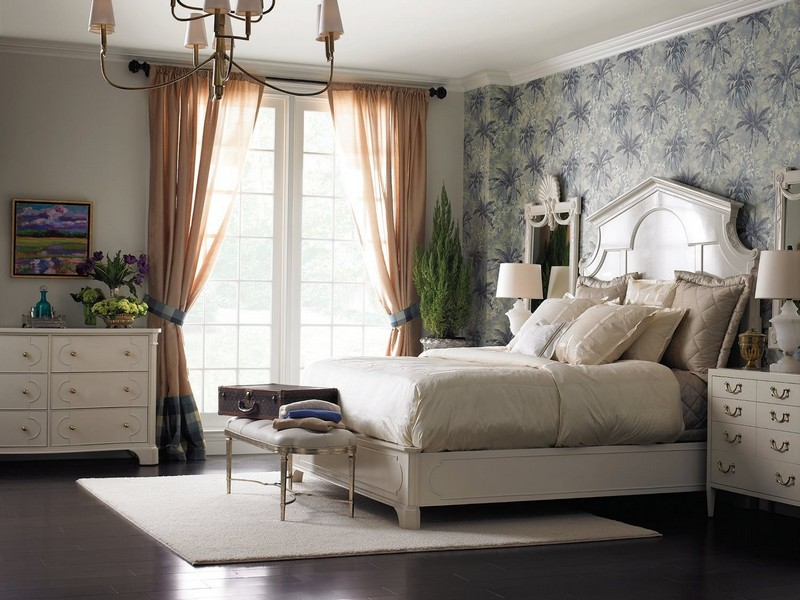bed: (298, 185, 762, 531)
lamp: (753, 246, 799, 381), (495, 261, 547, 346)
stool: (226, 413, 357, 520)
